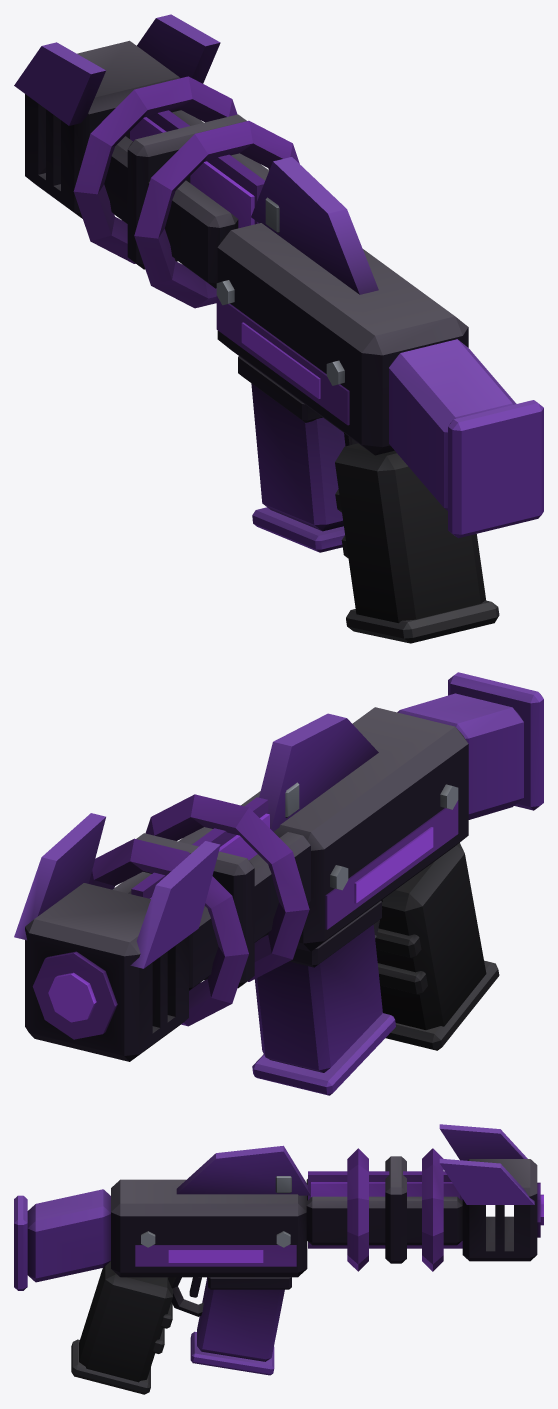
Rendered from Arc.fbx.
3 views of the same model, one above another, from view 1: azimuth 30°, elevation 25°; view 2: azimuth 150°, elevation 25°; view 3: azimuth 270°, elevation 25° (orthographic). The views are drawn at different scales.
Visible parts, largest first — view 1: Body, Halo_Glow, Accent_Glow; view 2: Body, Halo_Glow, Accent_Glow; view 3: Body, Halo_Glow, Accent_Glow.
Boxes of the visible parts, x1=… form: Body: x1=14, y1=14, x2=543, y2=643; Halo_Glow: x1=73, y1=76, x2=349, y2=425; Accent_Glow: x1=130, y1=117, x2=320, y2=398; Body: x1=14, y1=672, x2=543, y2=1095; Halo_Glow: x1=32, y1=794, x2=458, y2=1039; Accent_Glow: x1=48, y1=813, x2=433, y2=1022; Body: x1=14, y1=1124, x2=537, y2=1394; Halo_Glow: x1=135, y1=1148, x2=540, y2=1271; Accent_Glow: x1=168, y1=1182, x2=543, y2=1262.
Size of the model in its own units: 0.92 by 1.94 by 3.91.
